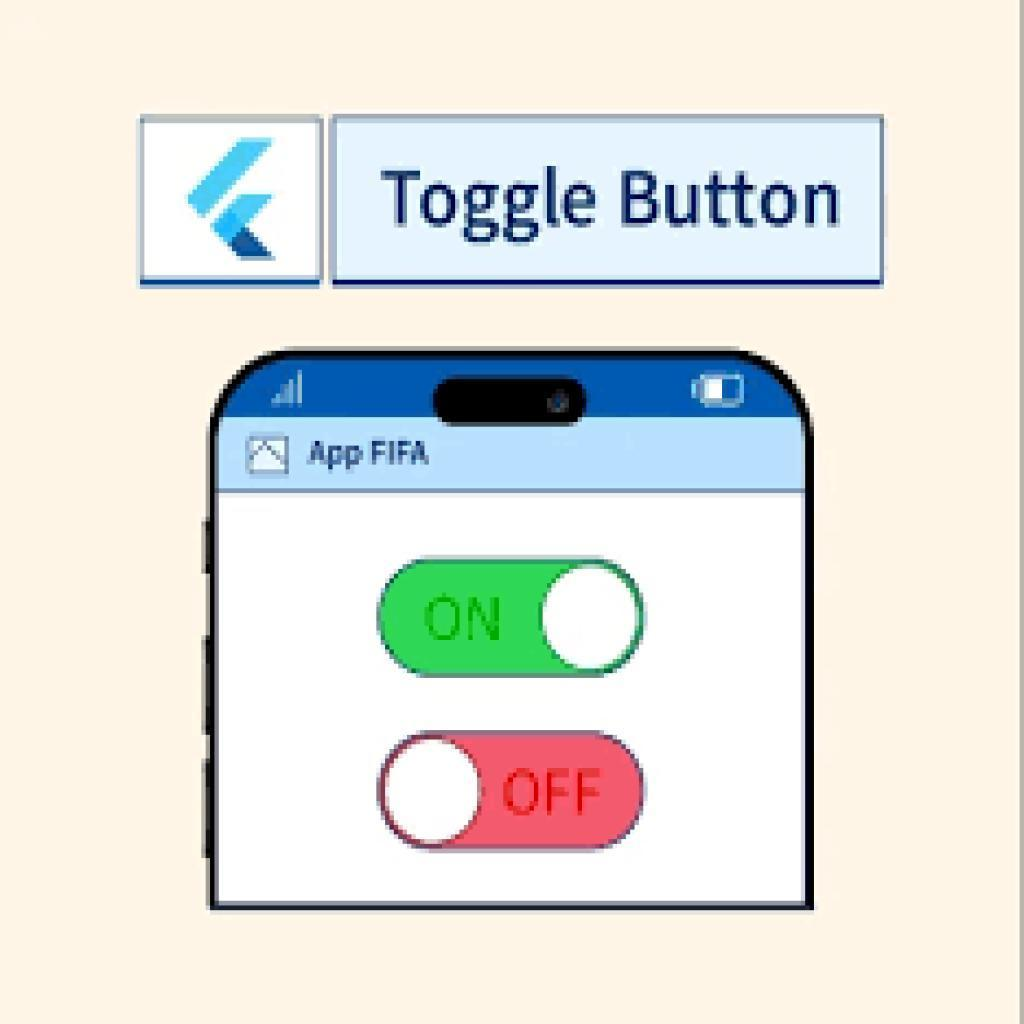switch: (375, 729, 646, 854), (377, 558, 649, 681)
